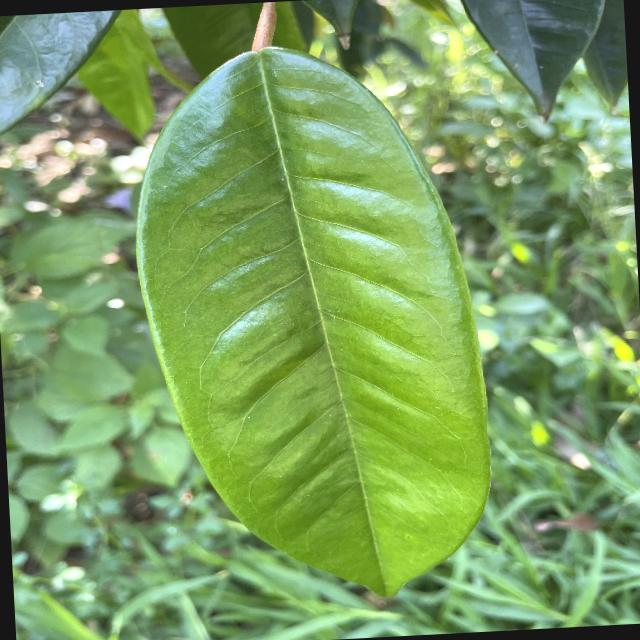No Disease: (119, 24, 508, 616)
